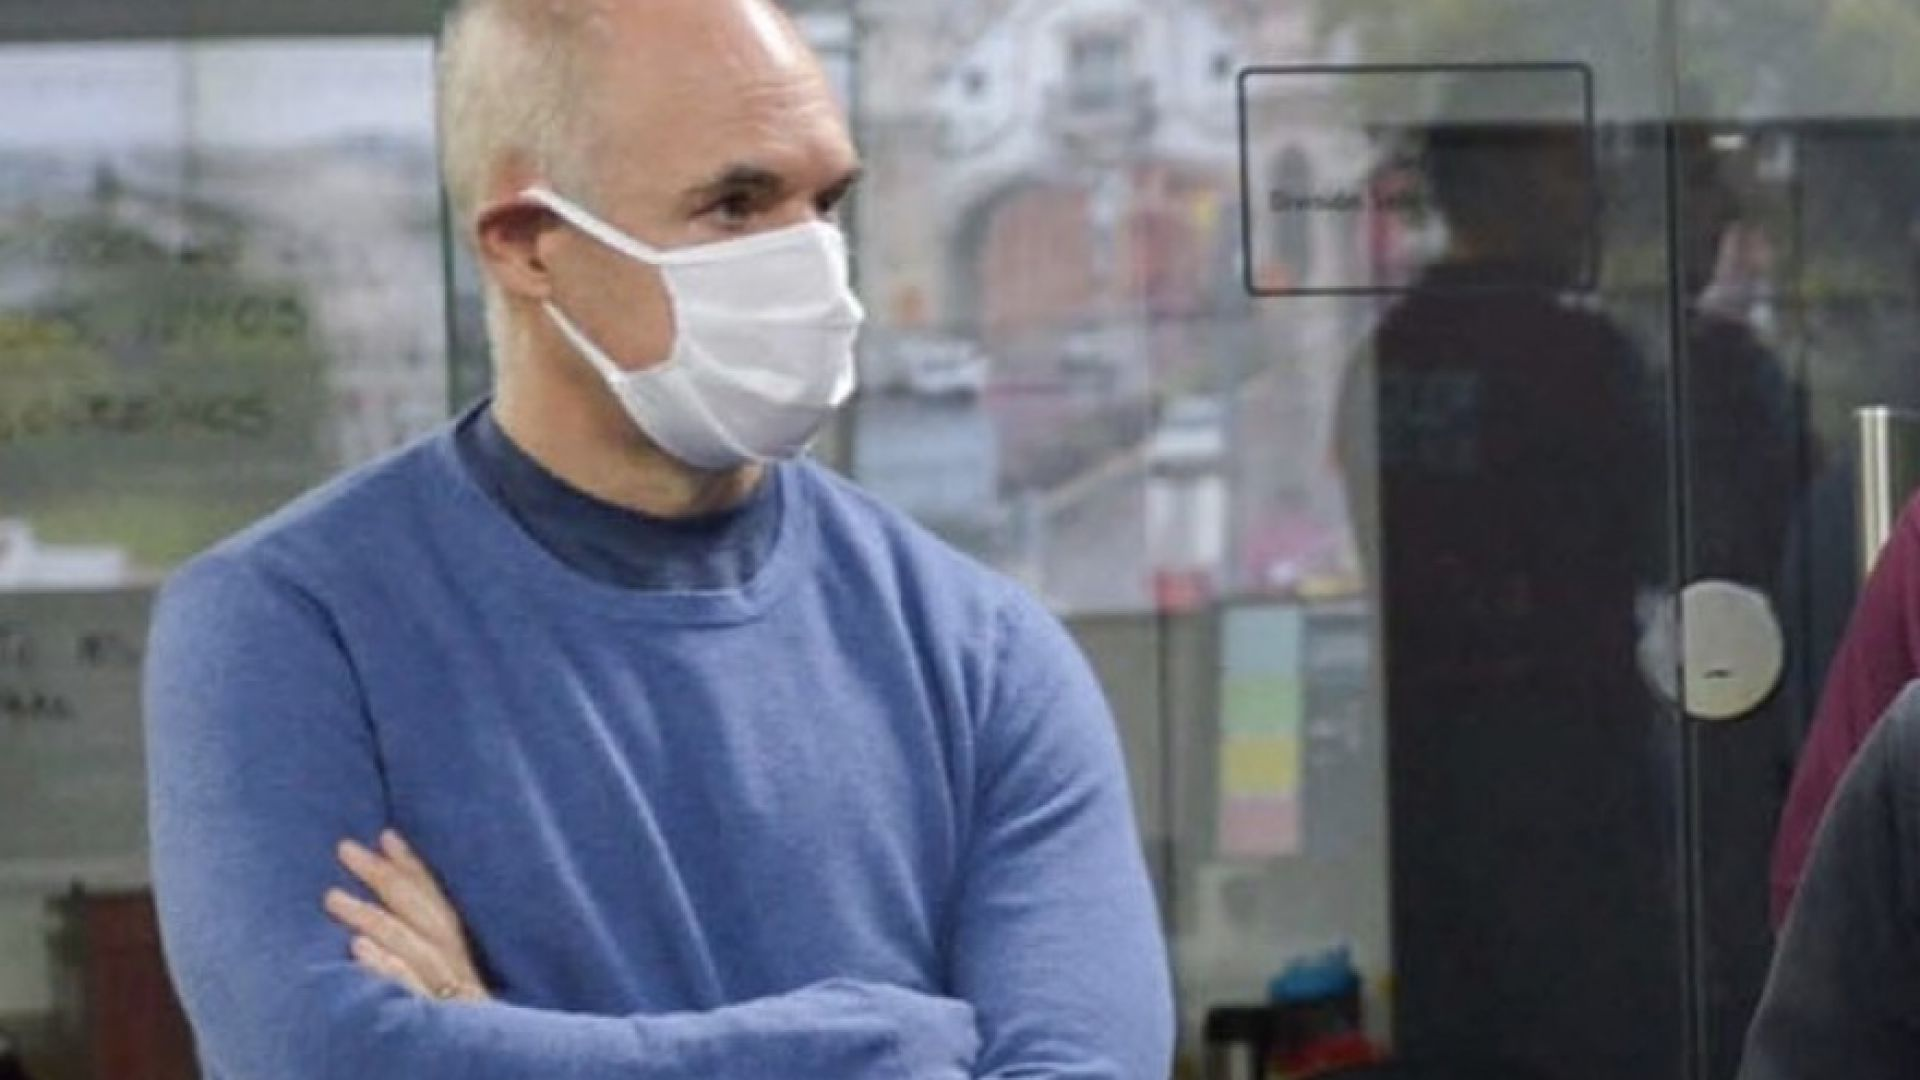barbijo: (505, 182, 861, 475)
